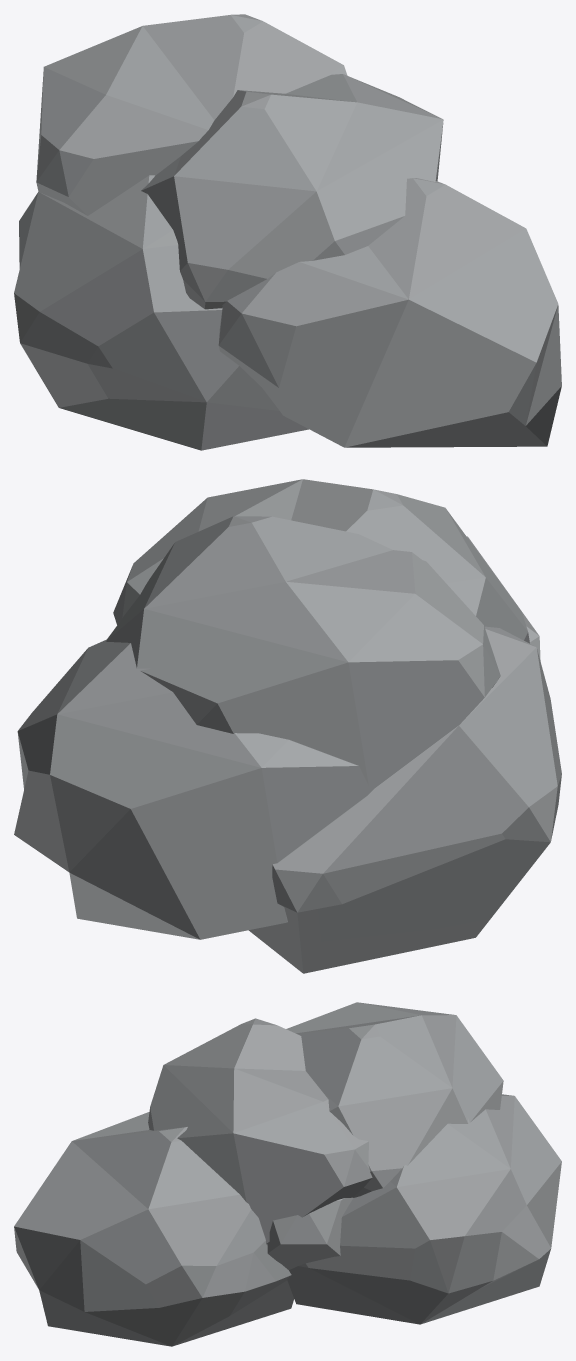
The model's file is bigrock_Texturedgamelabpal.fbx.
The picture shows the model from 3 angles, top to bottom: view 1: azimuth 30°, elevation 25°; view 2: azimuth 150°, elevation 25°; view 3: azimuth 270°, elevation 25°; orthographic projection. The views are drawn at different scales.
Parts seen in each view (by area): view 1: Icosphere.005; view 2: Icosphere.005; view 3: Icosphere.005.
Boxes of the visible parts, left/top/right/bottom form: Icosphere.005: left=14, top=14, right=561, bottom=450; Icosphere.005: left=14, top=479, right=561, bottom=973; Icosphere.005: left=14, top=1002, right=561, bottom=1346.
Size of the model in its own units: 187 by 141 by 255.
